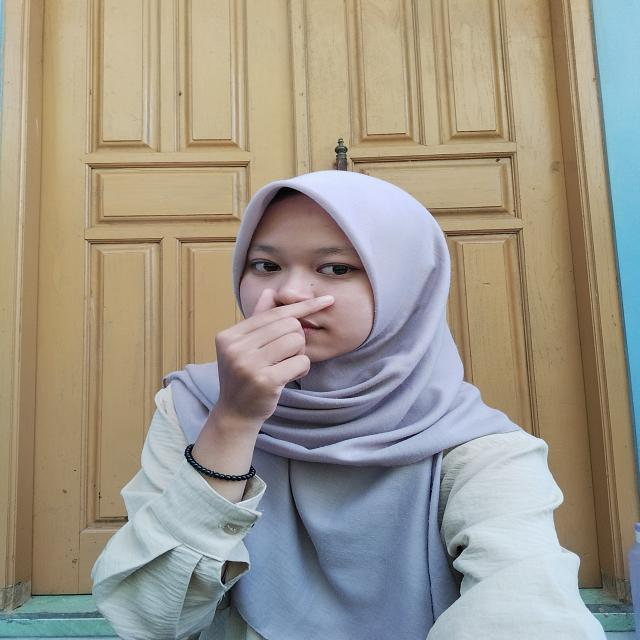bau: (207, 286, 332, 418)
